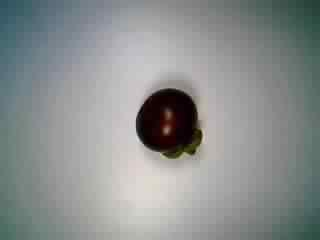mangosteen: (129, 83, 206, 160)
